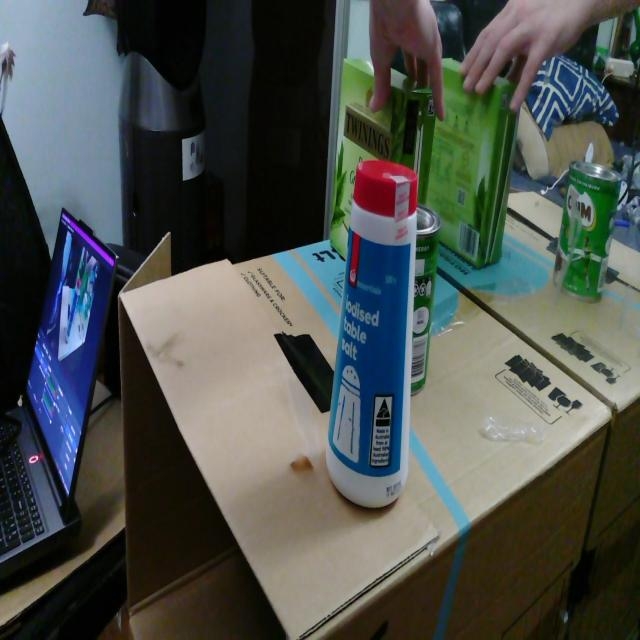nestle_milo_tin: (411, 205, 440, 395)
twinings_greentea_box: (330, 59, 436, 259)
woolworths_salt_bottle: (326, 160, 418, 507)
